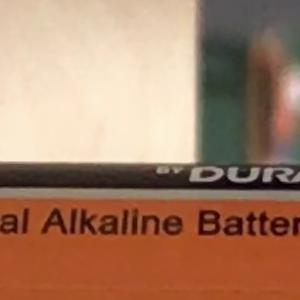ALK: (11, 198, 88, 244)
